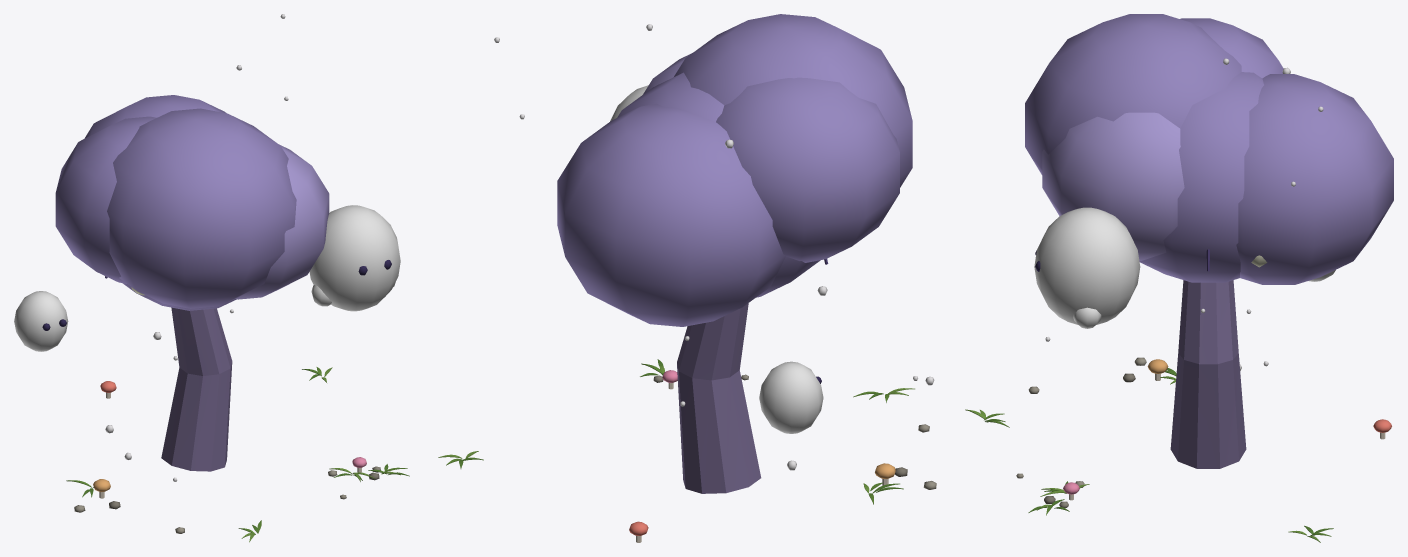
The model's file is gym_deco_ghost_lite.glb.
3 views of the same model, side by side, from view 1: azimuth 30°, elevation 25°; view 2: azimuth 150°, elevation 25°; view 3: azimuth 270°, elevation 25° (orthographic). The views are drawn at different scales.
Parts seen in each view (by area): view 1: t; view 2: t; view 3: t.
Boxes of the visible parts, x1=… form: t: x1=14, y1=14, x2=409, y2=542; t: x1=438, y1=14, x2=936, y2=542; t: x1=965, y1=14, x2=1393, y2=542.
Size of the model in its own units: 5.77 by 6.18 by 5.66.
